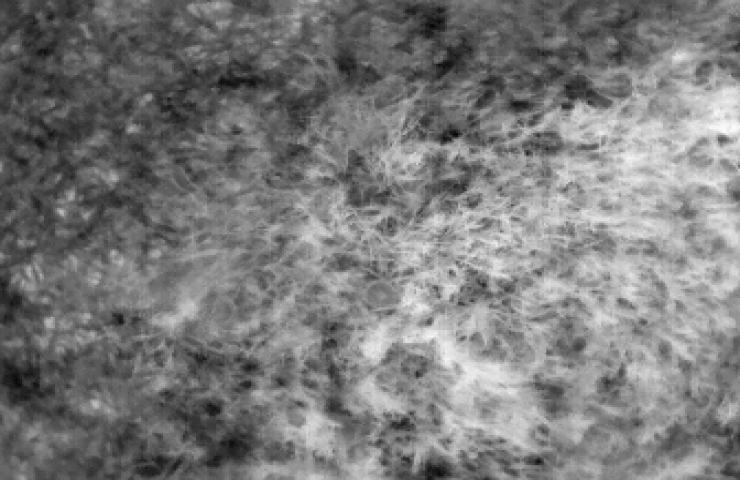landmines: (362, 277, 401, 312)
